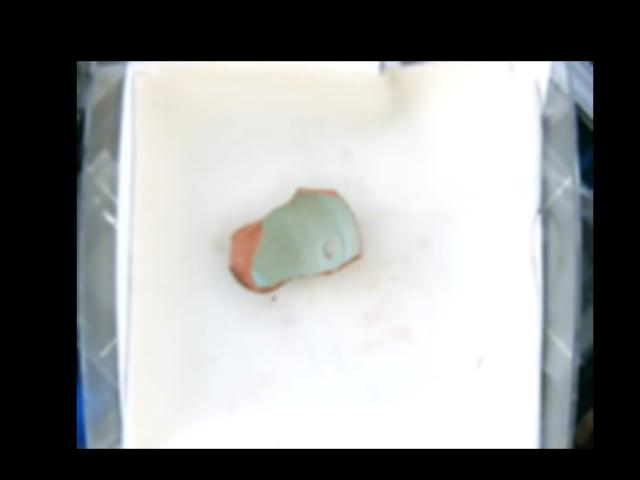China: (230, 187, 364, 292)
